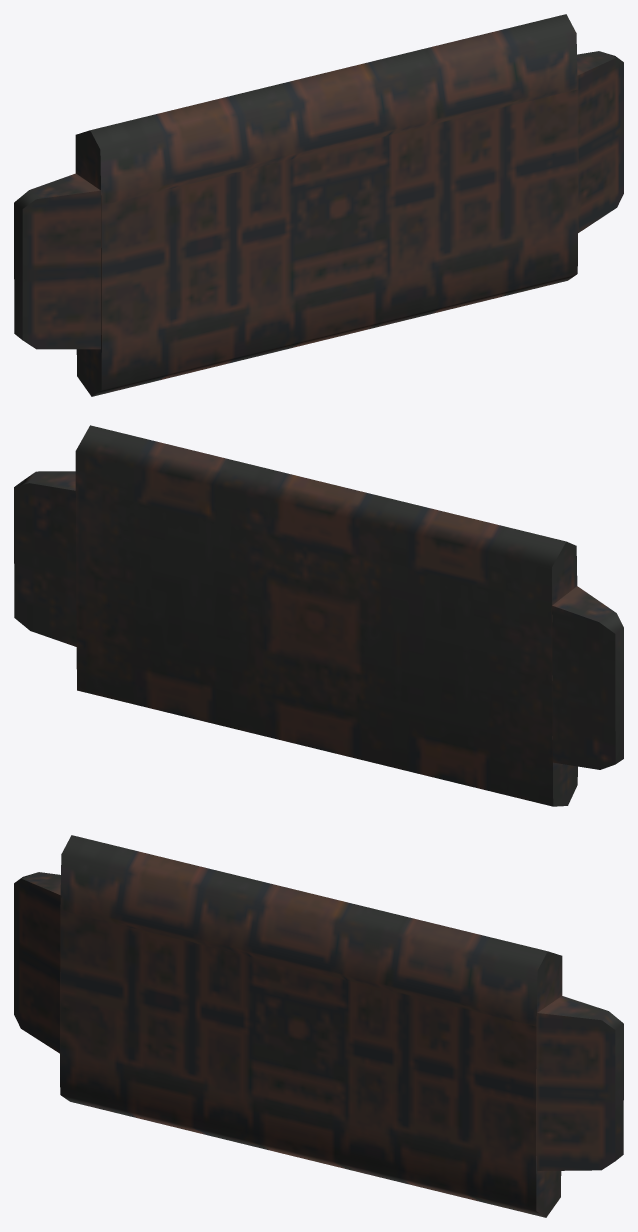
File: track1_segment2.glb
3 views of the same model, one above another, from view 1: azimuth 30°, elevation 25°; view 2: azimuth 150°, elevation 25°; view 3: azimuth 330°, elevation 25° (orthographic).
Visible parts, largest first — view 1: set_0_group_0; view 2: set_0_group_0; view 3: set_0_group_0.
Boxes of the visible parts, left/top/right/bottom form: set_0_group_0: left=14, top=14, right=623, bottom=396; set_0_group_0: left=14, top=425, right=623, bottom=806; set_0_group_0: left=14, top=835, right=623, bottom=1217.
Size of the model in its own units: 0.4895 by 0.2066 by 0.0448.
1 material, 1 textured.
